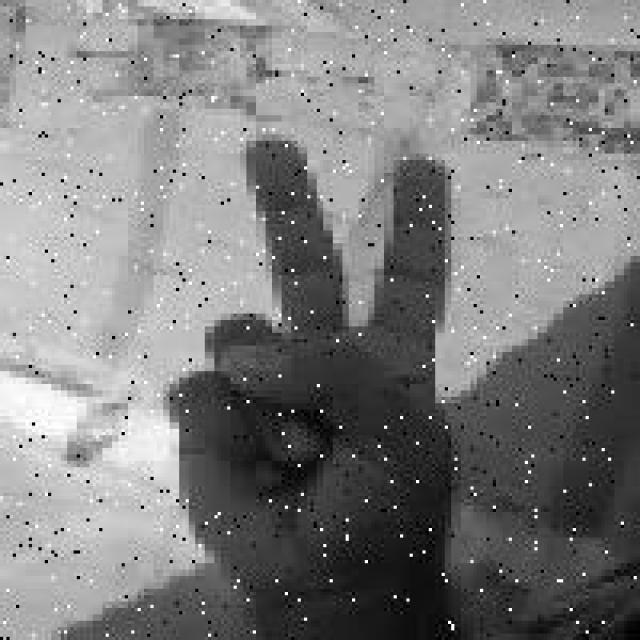V: (162, 132, 466, 598)
